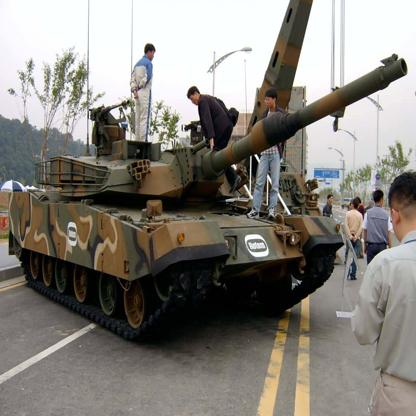Tank: (4, 51, 412, 349)
